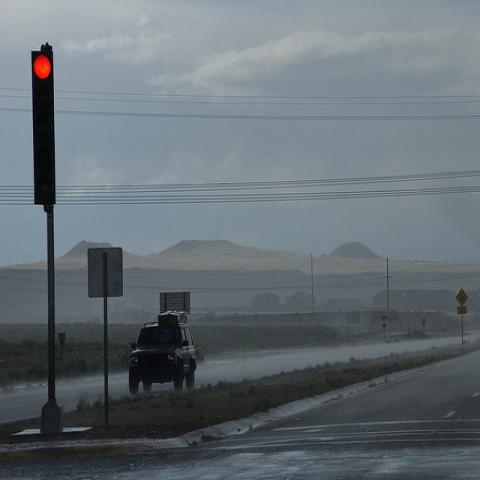car: (128, 308, 198, 394)
